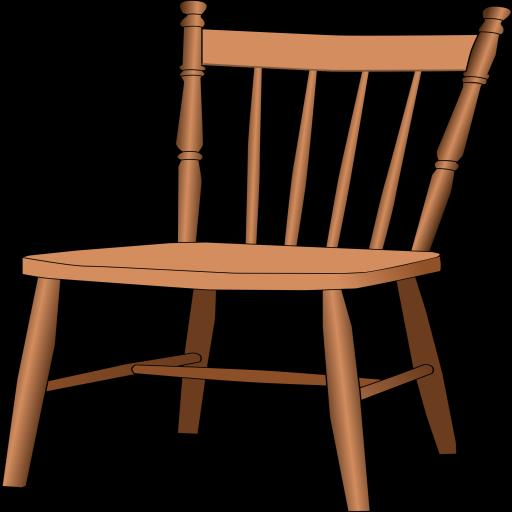chair: (2, 0, 511, 511)
